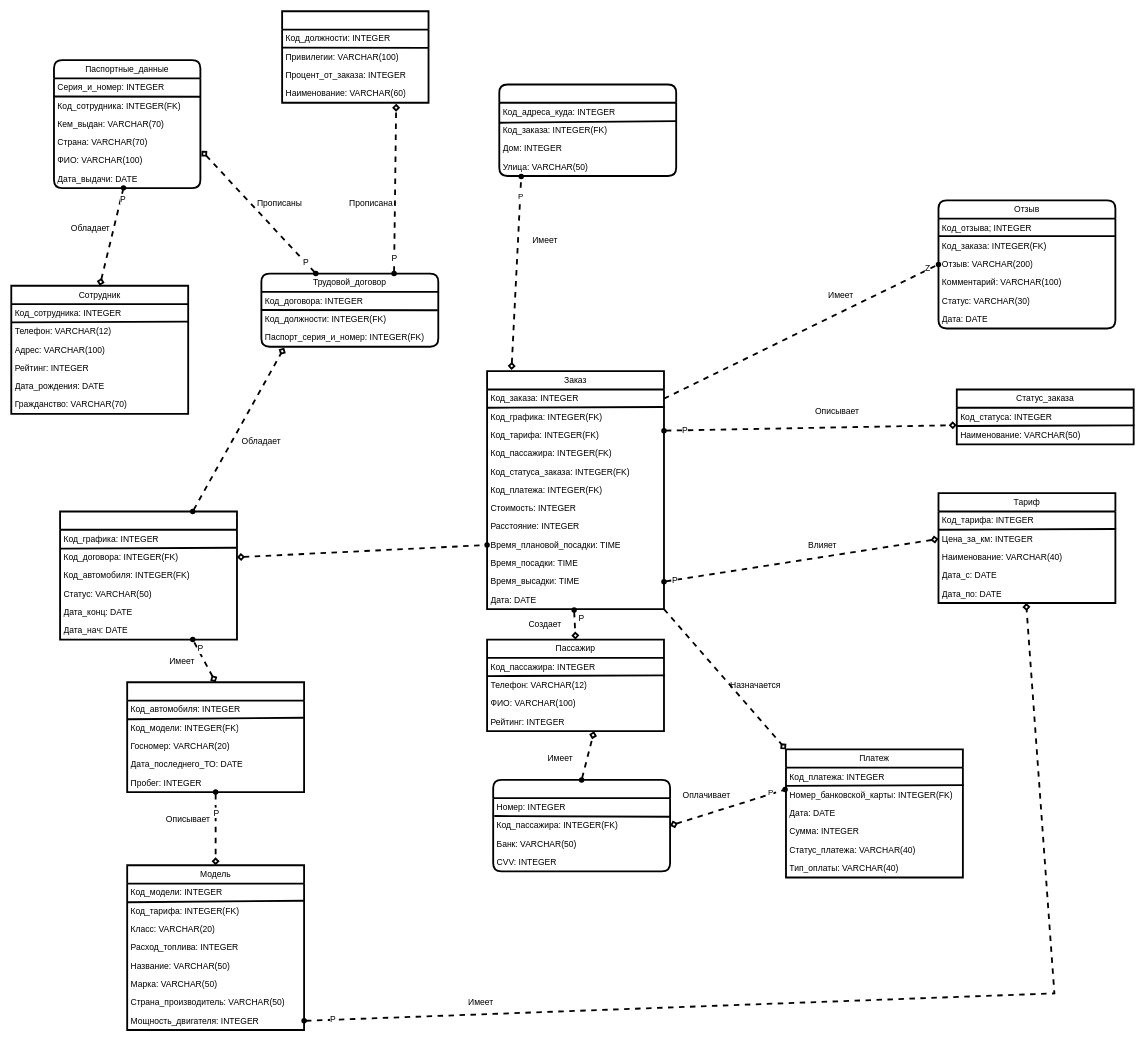
This 1147x1041 diagram has some shape labels left out. Each missing label, with the box of its shape:
Автомобиль: (126, 681, 305, 793)
Адрес_куда: (498, 83, 677, 177)
Банковская_карта: (492, 779, 671, 872)
График_работы: (59, 510, 238, 640)
Должность: (281, 10, 429, 103)
